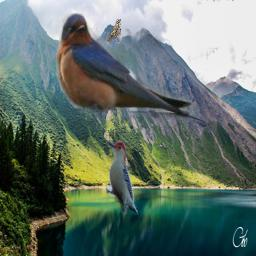Sparrow: (107, 19, 121, 42)
Swallow: (56, 13, 206, 123)
Woodpecker: (106, 140, 138, 215)
